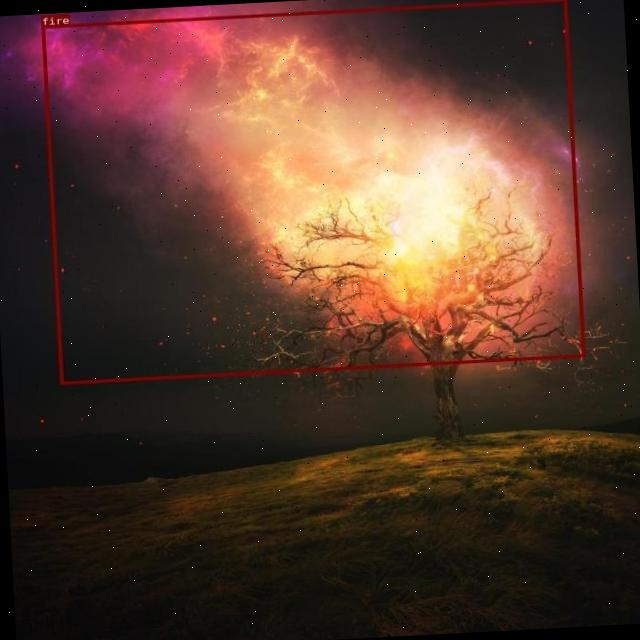fire: (41, 0, 585, 384)
